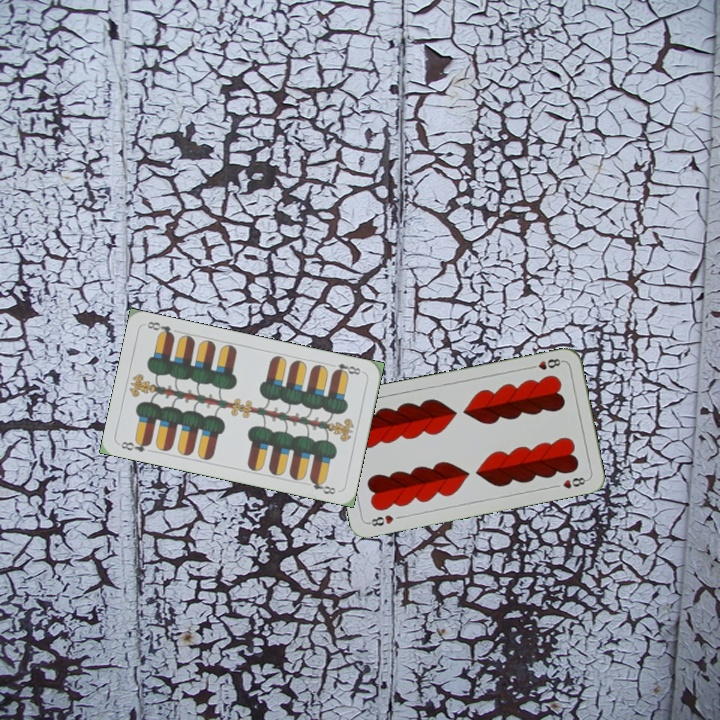E8: (326, 359, 366, 378), (117, 436, 154, 455)
H8: (525, 354, 566, 372), (364, 511, 396, 529)
